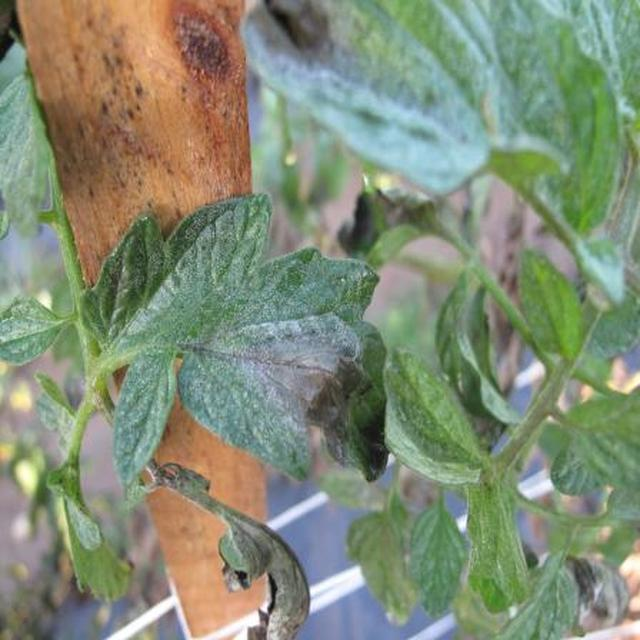Late Blight Leaf: (81, 266, 615, 640)
